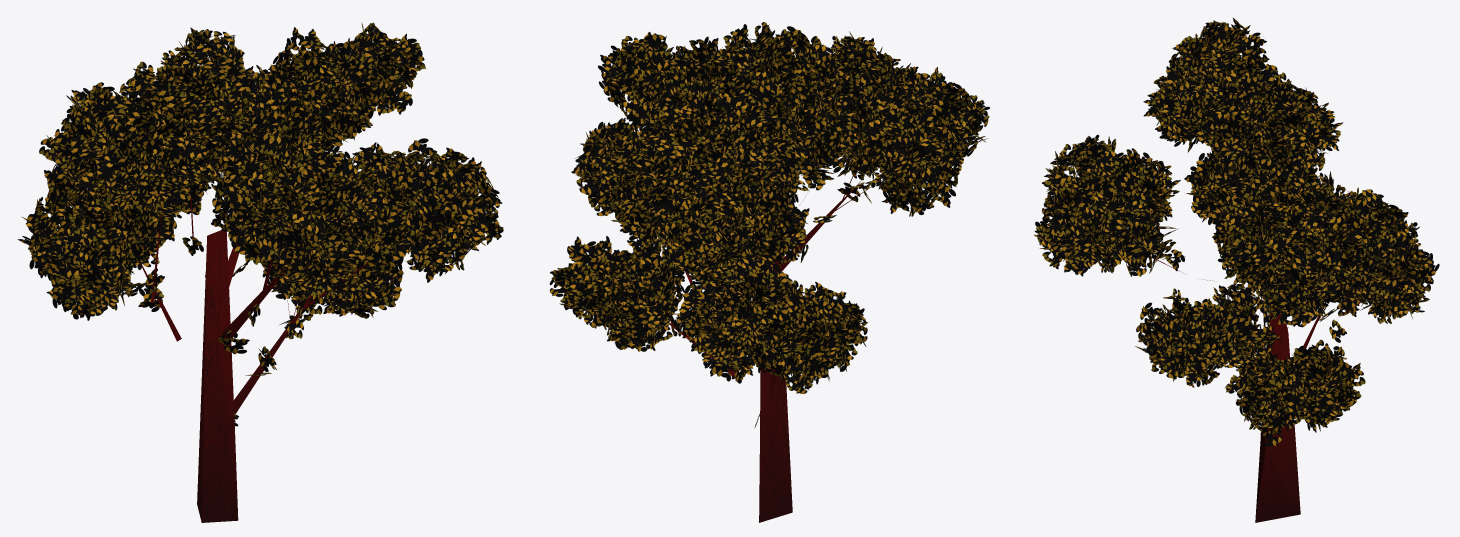
Rendered from oak_broadleaf_v03_LOD1.glb.
3 views of the same model, side by side, from view 1: azimuth 30°, elevation 25°; view 2: azimuth 150°, elevation 25°; view 3: azimuth 270°, elevation 25° (orthographic). The views are drawn at different scales.
Visible parts, largest first — view 1: oak_broadleaf_v03_LOD1; view 2: oak_broadleaf_v03_LOD1; view 3: oak_broadleaf_v03_LOD1.
Part boxes in pixels (x1,y1,x2,y2): oak_broadleaf_v03_LOD1: (17, 22, 503, 522); oak_broadleaf_v03_LOD1: (549, 22, 989, 522); oak_broadleaf_v03_LOD1: (1034, 18, 1439, 522).
Size of the model in its own units: 22.79 by 23.85 by 20.61.
2 materials, 2 textured.
